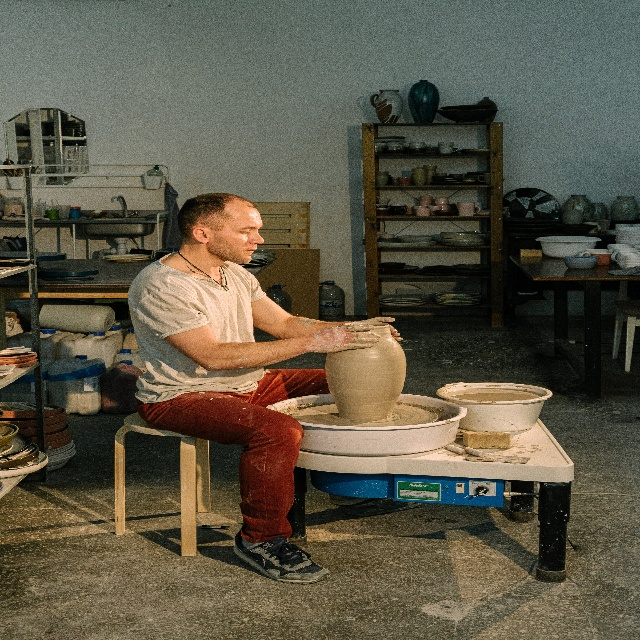Sin_guantes: (315, 323, 380, 351)
